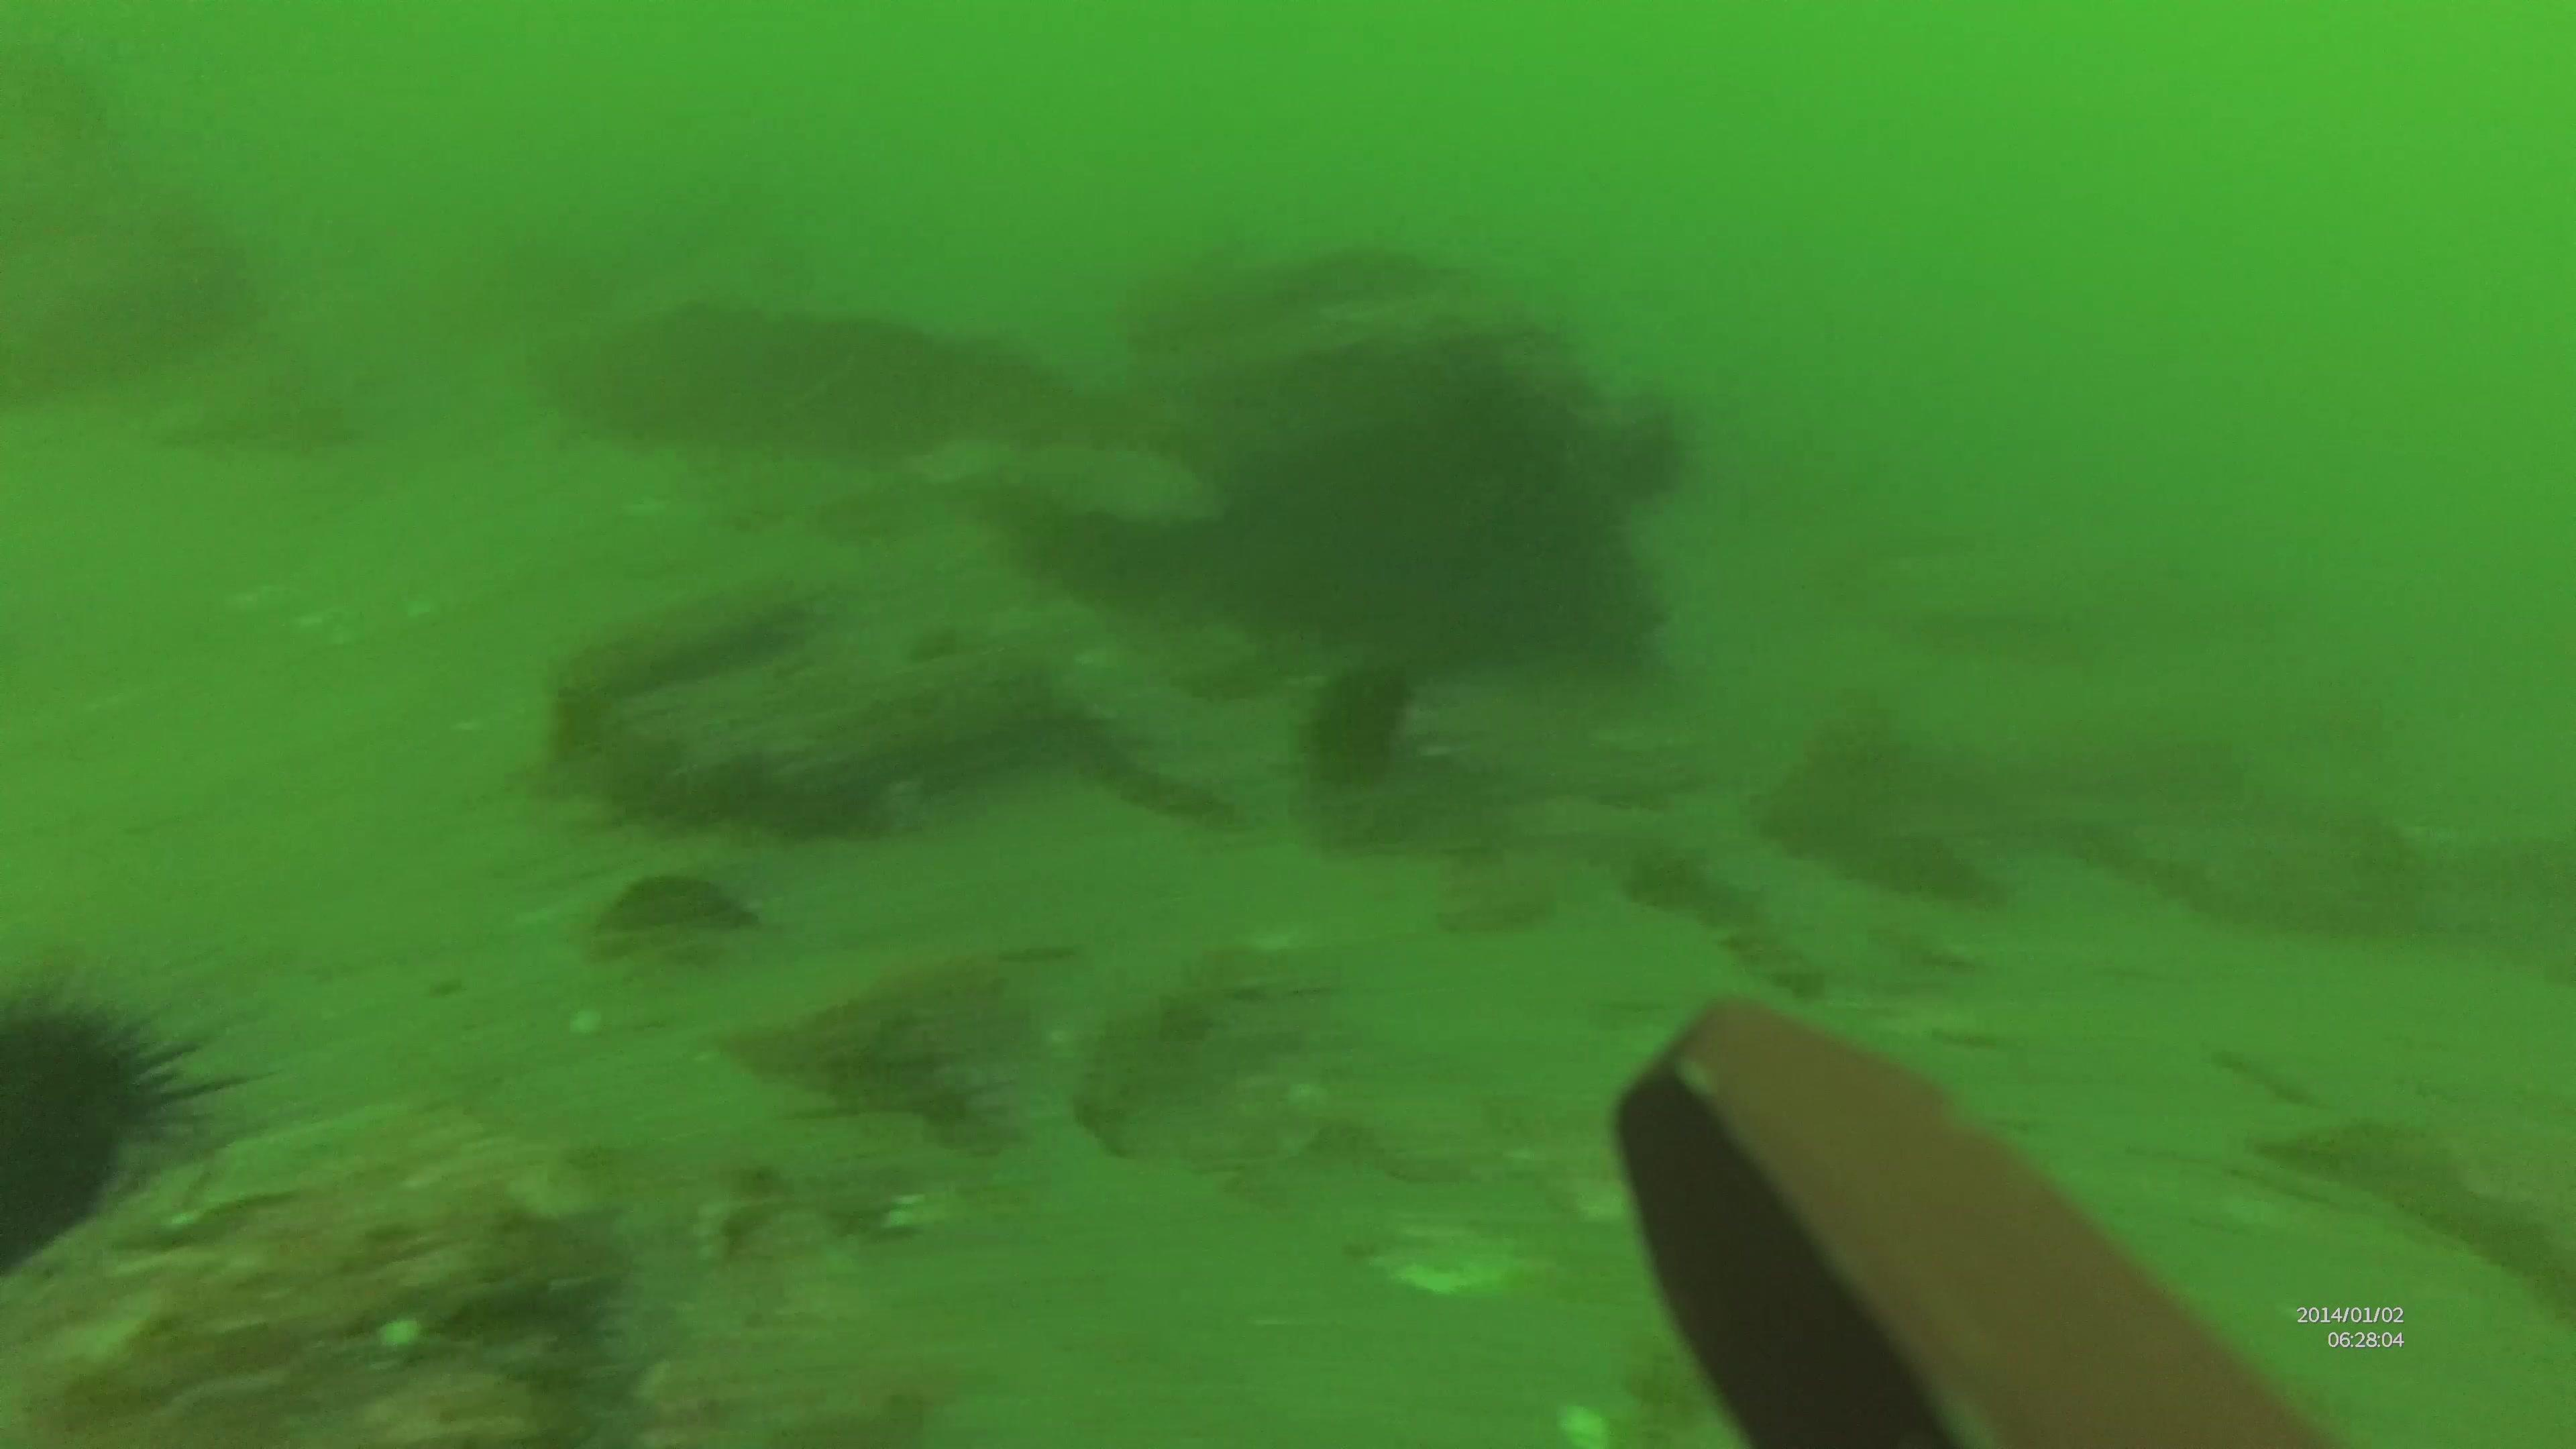echinus: (0, 971, 265, 1276), (1293, 646, 1424, 796)
